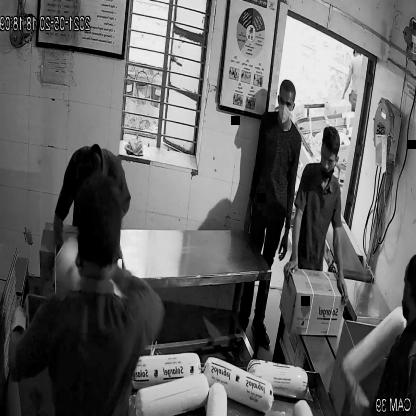goggles: (318, 151, 338, 168)
no_goggles: (274, 91, 297, 110)
